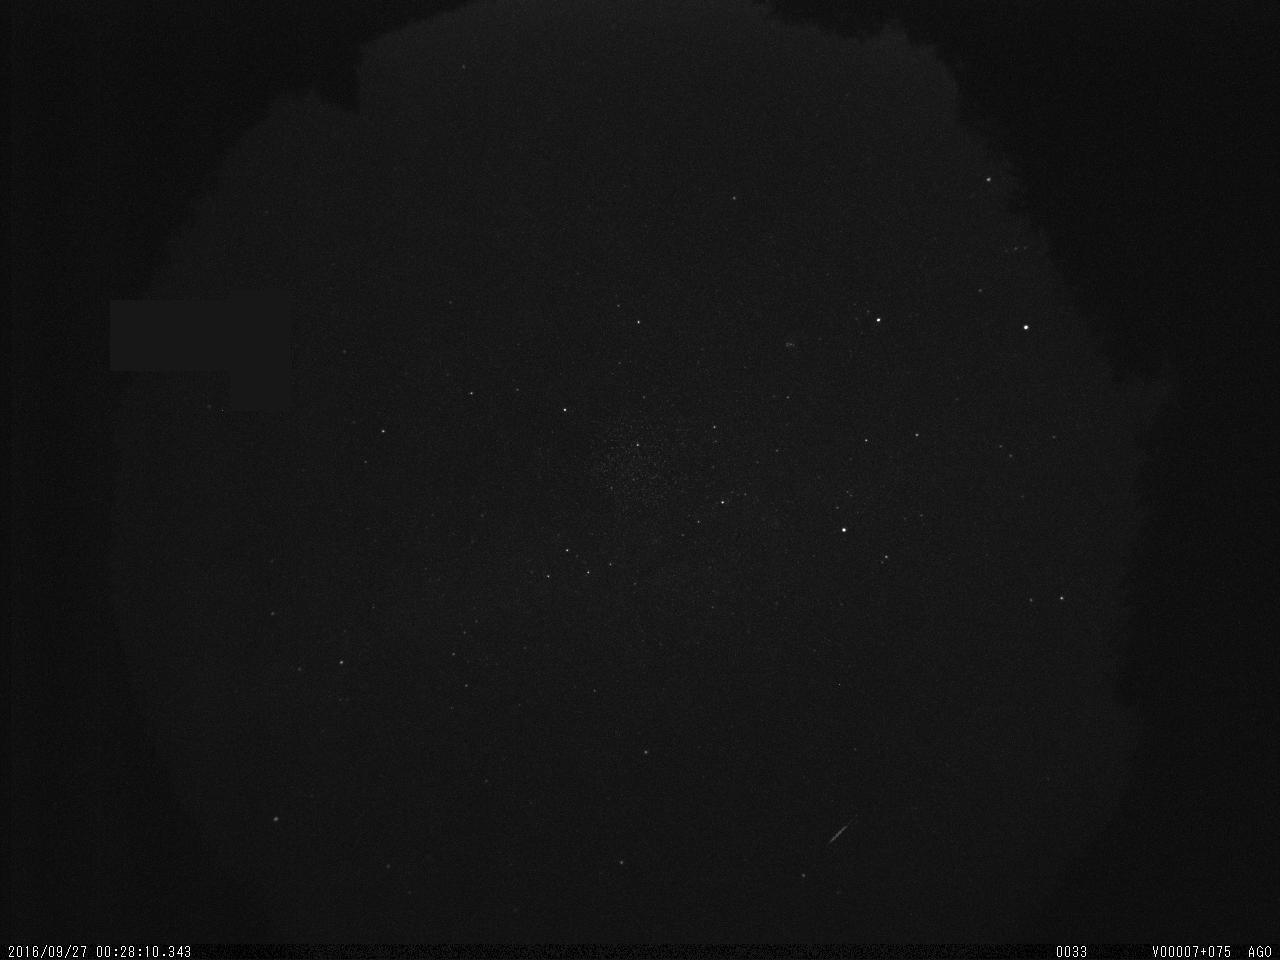meteor: (819, 811, 859, 852)
